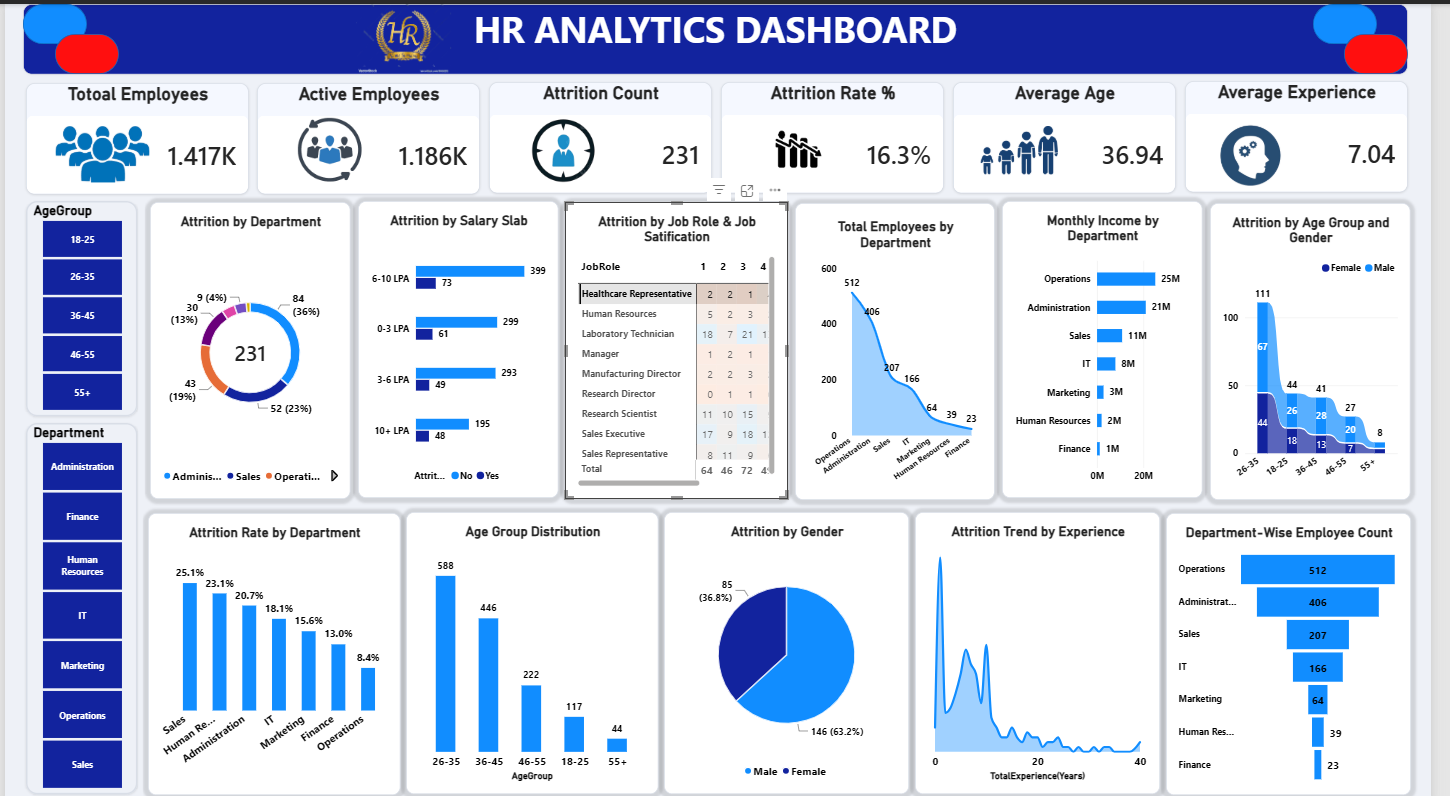

What the dashboard file says about the page in this screenshot:
{"tool":"powerbi","page":{"name":"HR Dashboard","canvas":[1920,1080],"ordinal":0},"visuals":[{"type":"textbox","box":[24.8,0,1864.6,94.8],"z":0},{"type":"image","box":[449.4,0,173.6,94.8],"z":1000},{"type":"shape","box":[24.8,0,86.1,54],"z":2000},{"type":"shape","box":[67.1,40.9,86.1,54],"z":3000},{"type":"cardVisual","title":"Totoal Employees","fields":{"Data":["CountNonNull(HR_Analytics-4.EmpID)"]},"box":[27.7,106.5,300,150],"z":4000},{"type":"cardVisual","title":"Active Employees","fields":{"Data":["CountNonNull(HR_Analytics-4.EmployeeCount)"]},"box":[339.9,106.5,300,150],"z":5000},{"type":"cardVisual","title":"Attrition Count","fields":{"Data":["Sum(HR_Analytics-4.AttritionCount)"]},"box":[652,105,300,150],"z":6000},{"type":"cardVisual","title":"Attrition Rate %","fields":{"Data":["HR_Analytics-4.Attrition Rate %"]},"box":[964.2,105,300,150],"z":7000},{"type":"cardVisual","title":"Average Age","fields":{"Data":["Avg(HR_Analytics-4.Age)"]},"box":[1276.3,105,300,150],"z":8000},{"type":"cardVisual","title":"Average Experience","fields":{"Data":["Avg(HR_Analytics-4.YearsatCompany)"]},"box":[1588.4,103.2,300,150],"z":9000},{"type":"image","box":[67.7,164.1,128.6,76.1],"z":10000},{"type":"image","box":[362,152.2,150.6,88],"z":11000},{"type":"image","box":[1304.2,164.1,121.8,72.7],"z":12000},{"type":"image","box":[624.2,135.3,245.3,121.8],"z":13000},{"type":"image","box":[930.4,143.8,275.7,131.9],"z":14000},{"type":"image","box":[1563.1,148.9,228.4,108.3],"z":15000},{"type":"donutChart","title":"Attrition by Department","fields":{"Category":["HR_Analytics-4.Department"],"Y":["Sum(HR_Analytics-4.AttritionCount)"]},"box":[195.3,266.4,270,400],"z":16000},{"type":"clusteredBarChart","title":"Attrition by Salary Slab","fields":{"Category":["HR_Analytics-4.SalarySlab"],"Series":["HR_Analytics-4.Attrition"],"Y":["CountNonNull(HR_Analytics-4.EmpID)"]},"box":[474.9,265.8,270,400],"z":17000},{"type":"pivotTable","title":"Attrition by Job Role & Job Satification","fields":{"Columns":["HR_Analytics-4.JobSatisfaction"],"Rows":["HR_Analytics-4.JobRole"],"Values":["Sum(HR_Analytics-4.AttritionCount)"]},"box":[754.5,266.9,300,400],"z":18000},{"type":"columnChart","title":"Age Group Distribution","fields":{"Category":["HR_Analytics-4.AgeGroup"],"Y":["Sum(HR_Analytics-4.EmployeeCount)"]},"box":[540.3,684.1,340,380],"z":19000},{"type":"pieChart","title":"Attrition by Gender","fields":{"Category":["HR_Analytics-4.Gender"],"Y":["Sum(HR_Analytics-4.AttritionCount)"]},"box":[888,684.4,330,380],"z":20000},{"type":"areaChart","title":"Attrition Trend by Experience","fields":{"Category":["HR_Analytics-4.TotalExperience(Years)"],"Y":["Sum(HR_Analytics-4.AttritionCount)"]},"box":[1225.7,684.8,330,380],"z":21000},{"type":"funnel","title":"Department-Wise Employee Count","fields":{"Category":["HR_Analytics-4.Department"],"Y":["CountNonNull(HR_Analytics-4.EmpID)"]},"box":[1563.4,685.4,330,380],"z":22000},{"type":"slicer","fields":{"Values":["HR_Analytics-4.Department"]},"box":[27.7,564.6,150,500],"z":23000},{"type":"slicer","fields":{"Values":["HR_Analytics-4.AgeGroup"]},"box":[27.7,265.5,150.3,290],"z":24000},{"type":"shape","box":[1760.8,-0.2,86.1,54],"z":25000},{"type":"shape","box":[1803.1,40.6,86.1,54],"z":26000},{"type":"ribbonChart","title":"Attrition by Age Group and Gender","fields":{"Category":["HR_Analytics-4.AgeGroup"],"Series":["HR_Analytics-4.Gender"],"Y":["Sum(HR_Analytics-4.AttritionCount)"]},"box":[1622.7,267.5,270,400],"z":27000},{"type":"clusteredBarChart","title":"Monthly Income by Department","fields":{"Category":["HR_Analytics-4.Department"],"Y":["Sum(HR_Analytics-4.MonthlyIncome)"]},"box":[1343.1,265.3,270,400],"z":28000},{"type":"areaChart","title":"Total  Employees by Department","fields":{"Category":["HR_Analytics-4.Department"],"Y":["Sum(HR_Analytics-4.EmployeeCount)"]},"box":[1064.1,268,269.3,400],"z":29000},{"type":"clusteredColumnChart","title":"Attrition Rate by Department","fields":{"Category":["HR_Analytics-4.Department"],"Y":["HR_Analytics-4.Attrition Rate %"]},"box":[192.6,685.1,340,380],"z":29001}]}

Visuals, with their boxes in screenshot pixels (x1, y1, x2, y2), scaled from the page's 1920x1080 canvas onto the 1450x796 screenshot:
textbox: BBox(19, 0, 1427, 70)
image: BBox(339, 0, 470, 70)
shape: BBox(19, 0, 84, 40)
shape: BBox(51, 30, 116, 70)
"Totoal Employees" cardVisual: BBox(21, 78, 247, 189)
"Active Employees" cardVisual: BBox(257, 78, 483, 189)
"Attrition Count" cardVisual: BBox(492, 77, 719, 188)
"Attrition Rate %" cardVisual: BBox(728, 77, 955, 188)
"Average Age" cardVisual: BBox(964, 77, 1190, 188)
"Average Experience" cardVisual: BBox(1200, 76, 1426, 187)
image: BBox(51, 121, 148, 177)
image: BBox(273, 112, 387, 177)
image: BBox(985, 121, 1077, 175)
image: BBox(471, 100, 657, 189)
image: BBox(703, 106, 911, 203)
image: BBox(1180, 110, 1353, 190)
"Attrition by Department" donutChart: BBox(147, 196, 351, 491)
"Attrition by Salary Slab" clusteredBarChart: BBox(359, 196, 563, 491)
"Attrition by Job Role & Job Satification" pivotTable: BBox(570, 197, 796, 492)
"Age Group Distribution" columnChart: BBox(408, 504, 665, 784)
"Attrition by Gender" pieChart: BBox(671, 504, 920, 785)
"Attrition Trend by Experience" areaChart: BBox(926, 505, 1175, 785)
"Department-Wise Employee Count" funnel: BBox(1181, 505, 1430, 785)
slicer - HR_Analytics-4.Department: BBox(21, 416, 134, 785)
slicer - HR_Analytics-4.AgeGroup: BBox(21, 196, 134, 409)
shape: BBox(1330, 0, 1395, 40)
shape: BBox(1362, 30, 1427, 70)
"Attrition by Age Group and Gender" ribbonChart: BBox(1225, 197, 1429, 492)
"Monthly Income by Department" clusteredBarChart: BBox(1014, 196, 1218, 490)
"Total  Employees by Department" areaChart: BBox(804, 198, 1007, 492)
"Attrition Rate by Department" clusteredColumnChart: BBox(145, 505, 402, 785)
